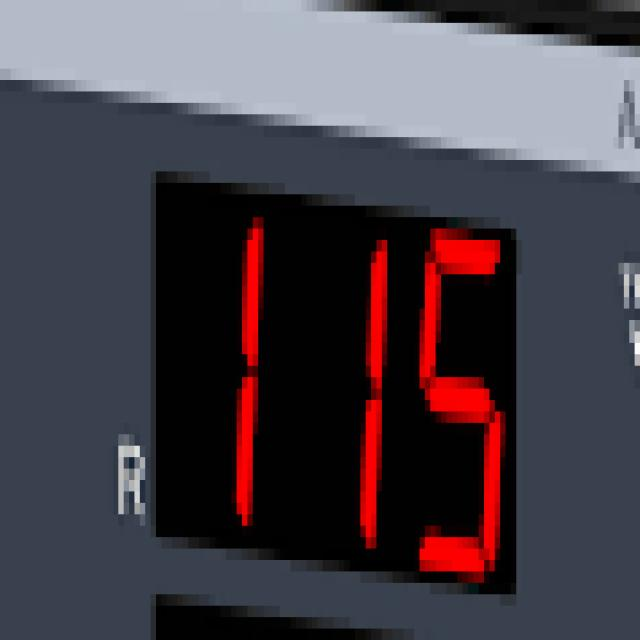1: (203, 202, 289, 534), (336, 211, 395, 557)
5: (412, 202, 514, 598)
screen: (150, 168, 518, 606)
